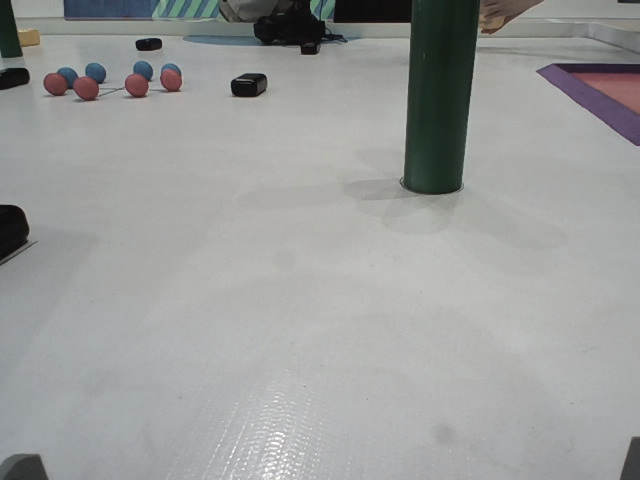black: (1, 196, 33, 259), (1, 65, 34, 95), (228, 73, 269, 96), (134, 37, 163, 50)
blue: (130, 59, 154, 79), (86, 63, 109, 81), (55, 68, 78, 84), (162, 63, 179, 81)
kuang: (534, 53, 640, 148)
red: (73, 76, 101, 102), (43, 71, 68, 94), (125, 76, 150, 99), (160, 69, 181, 90)
yellow: (16, 30, 44, 48)
zhuzi: (399, 1, 483, 196), (1, 1, 24, 60)
